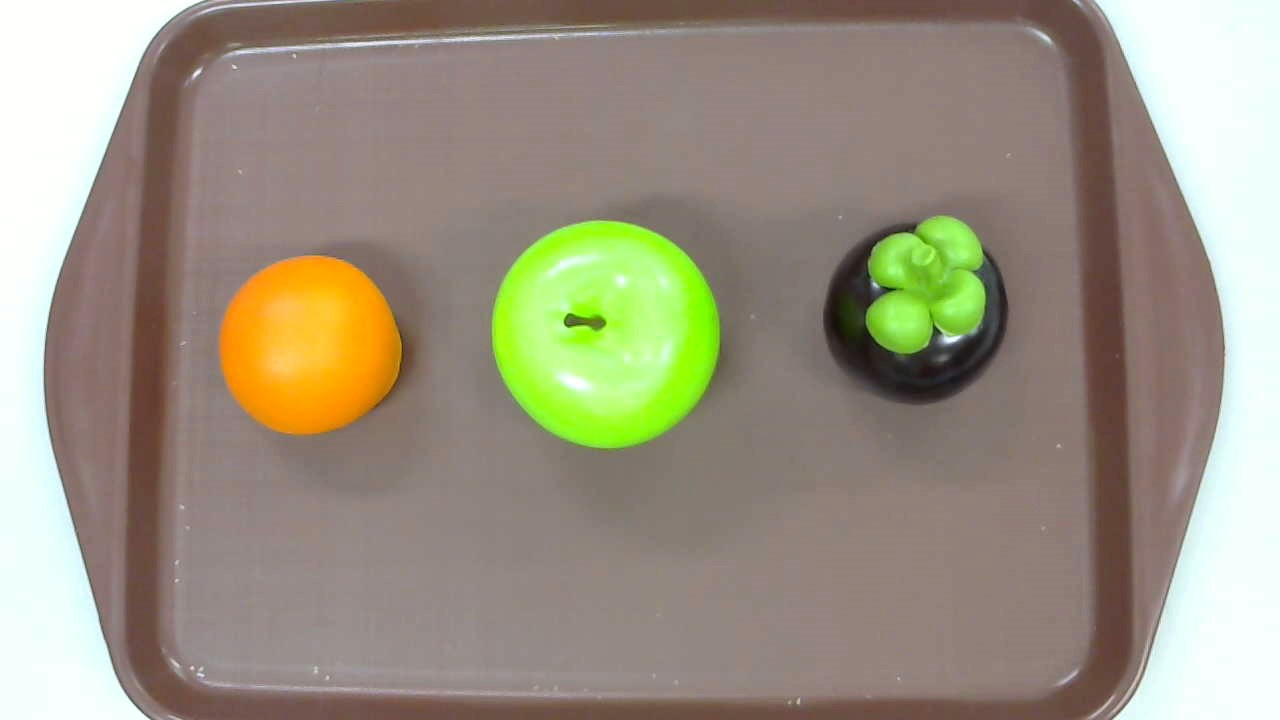bun: (218, 255, 402, 436)
green apple: (490, 219, 721, 451)
mangosteen: (823, 215, 1010, 406)
